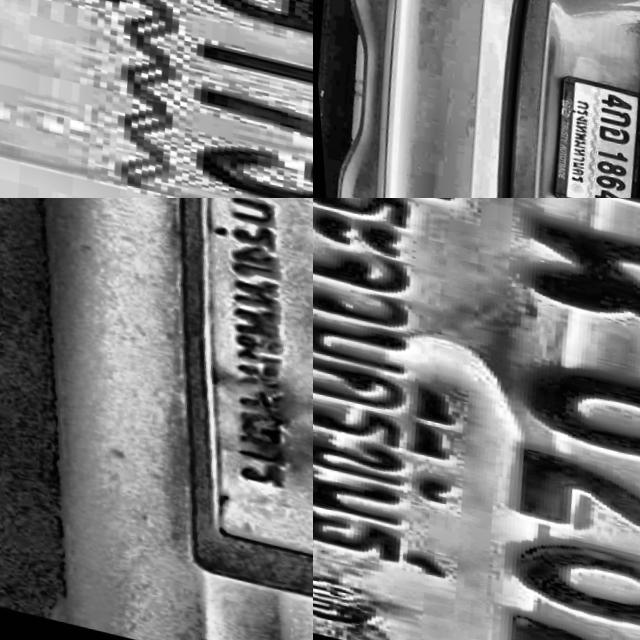license-plate: (313, 198, 640, 640), (92, 198, 313, 640), (0, 0, 313, 198), (536, 64, 640, 198)
